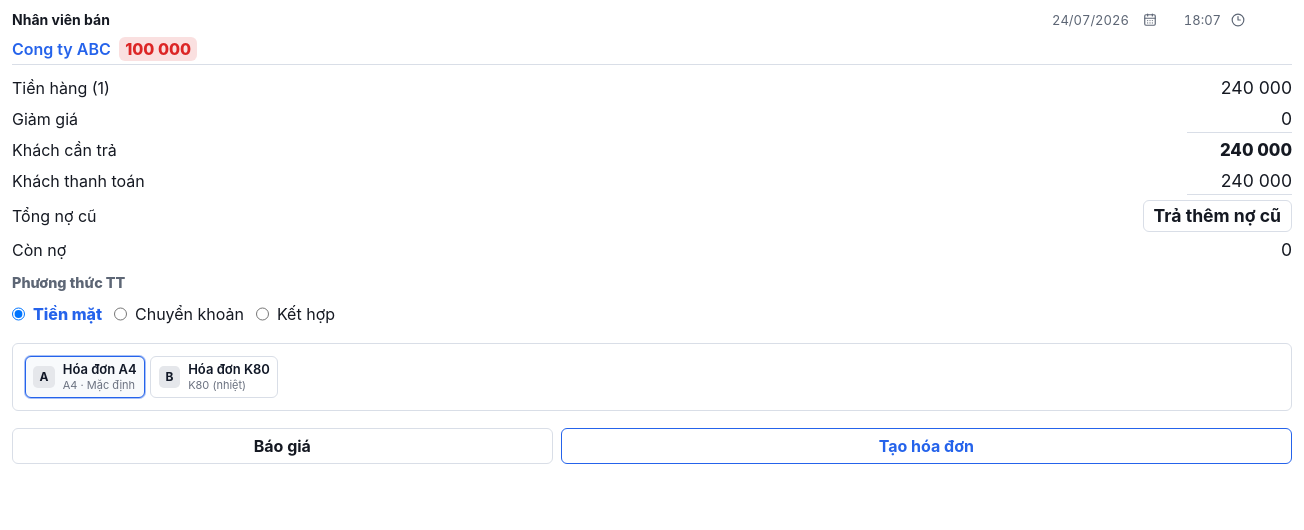
it: keeps customer payment inline in cash mode and reveals bank account fields in transfer mode
Replace the text in the field named "Khách thanh toán" with "0" at (1239, 182), box [1187, 168, 1292, 195]
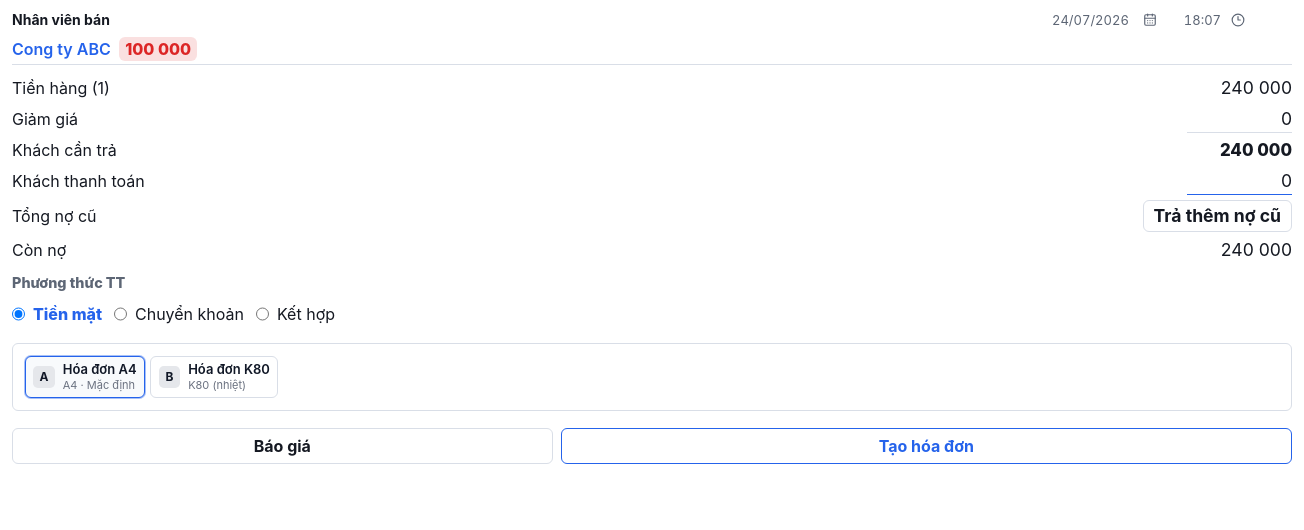
Expected: the text "Còn nợ" is shown, [12, 240, 66, 260]
Expected: the text "240 000" in the row of "Tiền hàng (1)" is shown, [1221, 77, 1292, 98]
Replace the text in the field named "Khách thanh toán" with "240000" at (1239, 182), box [1187, 168, 1292, 195]
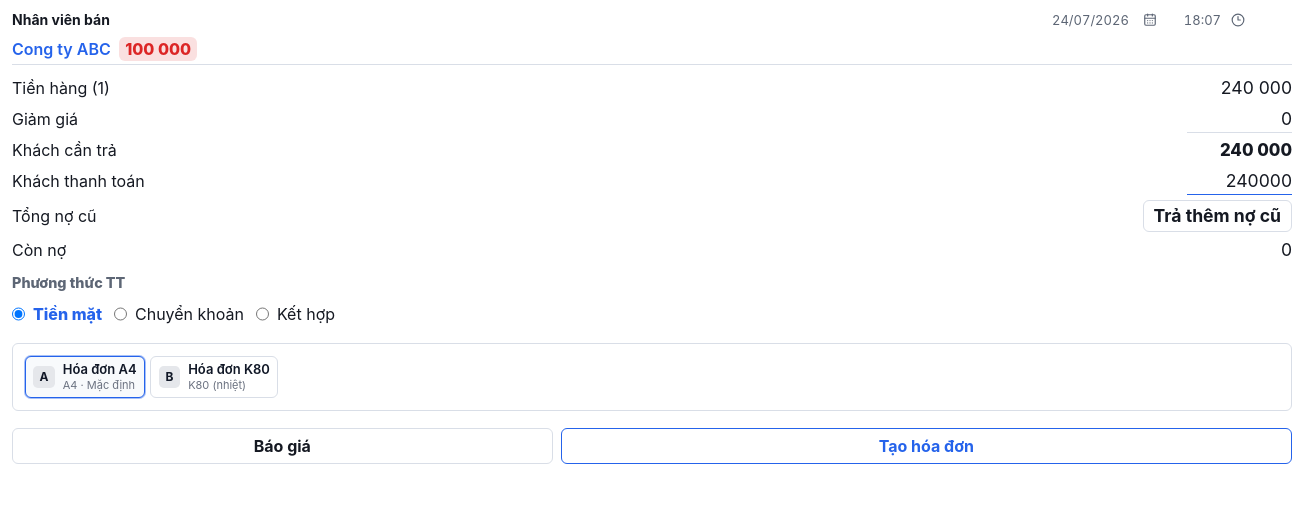
Click the radio button labelled "Chuyển khoản".
click(120, 314)  # box [114, 294, 127, 334]
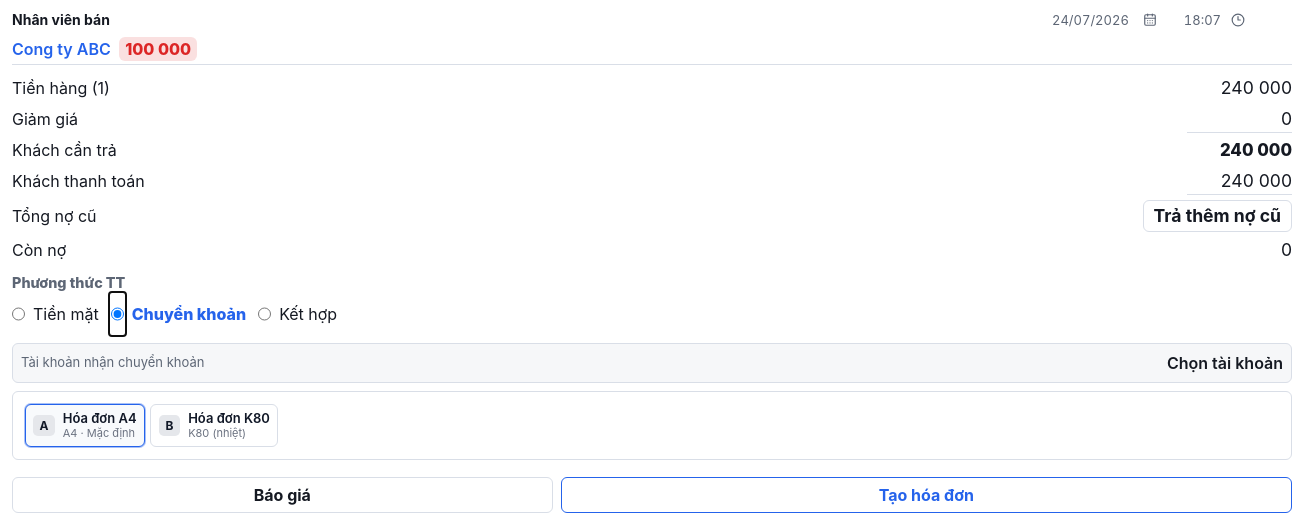
Expected: the field named "Khách thanh toán" holds "240 000", [1187, 168, 1292, 195]
Expected: the button "Tài khoản nhận chuyển khoản Chọn tài khoản" is shown, [12, 342, 1292, 382]
